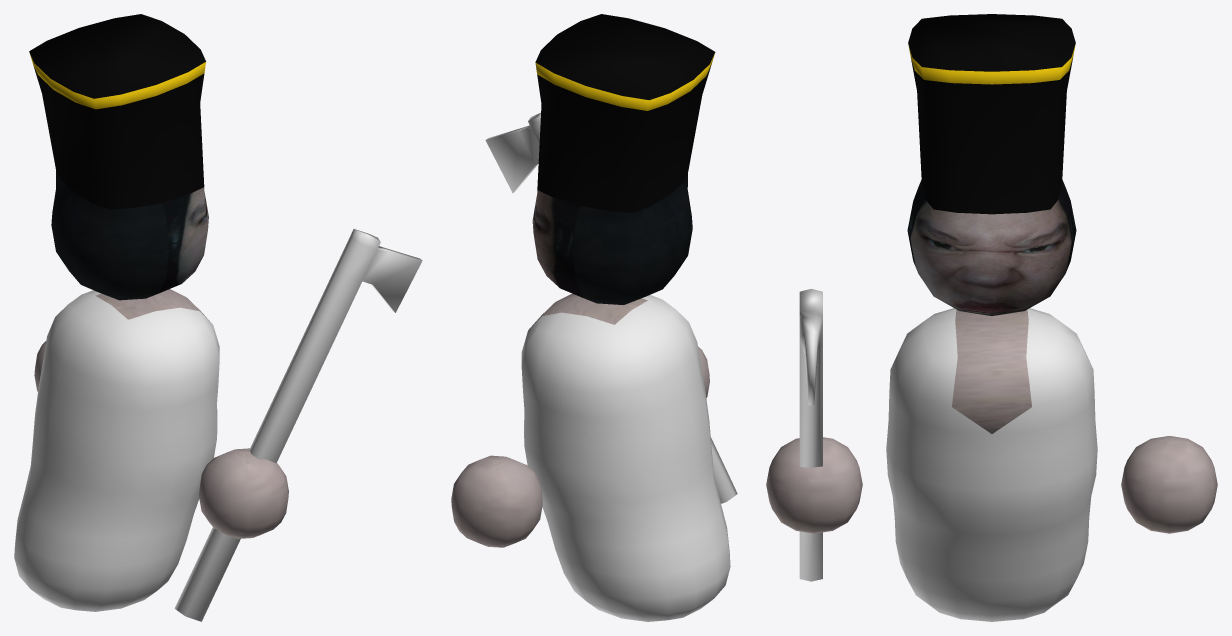
The model's file is Harnas.fbx.
3 views of the same model, side by side, from view 1: azimuth 30°, elevation 25°; view 2: azimuth 150°, elevation 25°; view 3: azimuth 270°, elevation 25° (orthographic). The views are drawn at different scales.
Parts seen in each view (by area): view 1: Cube, Cube.005, Cube.001, Cube.003; view 2: Cube, Cube.005, Cube.004, Cube.001; view 3: Cube, Cube.005, Cube.004, Cube.003, Cube.001.
Boxes of the visible parts, <box> form: Cube: <box>14,289,219,611</box>; Cube.005: <box>29,14,208,300</box>; Cube.001: <box>174,229,422,621</box>; Cube.003: <box>199,448,288,538</box>; Cube: <box>521,293,730,621</box>; Cube.005: <box>532,14,715,304</box>; Cube.004: <box>451,455,542,547</box>; Cube.001: <box>485,113,737,503</box>; Cube: <box>886,308,1097,621</box>; Cube.005: <box>907,14,1076,315</box>; Cube.004: <box>1121,436,1217,533</box>; Cube.003: <box>766,437,862,533</box>; Cube.001: <box>799,288,822,581</box>.
Size of the model in its own units: 346 by 575 by 403.
